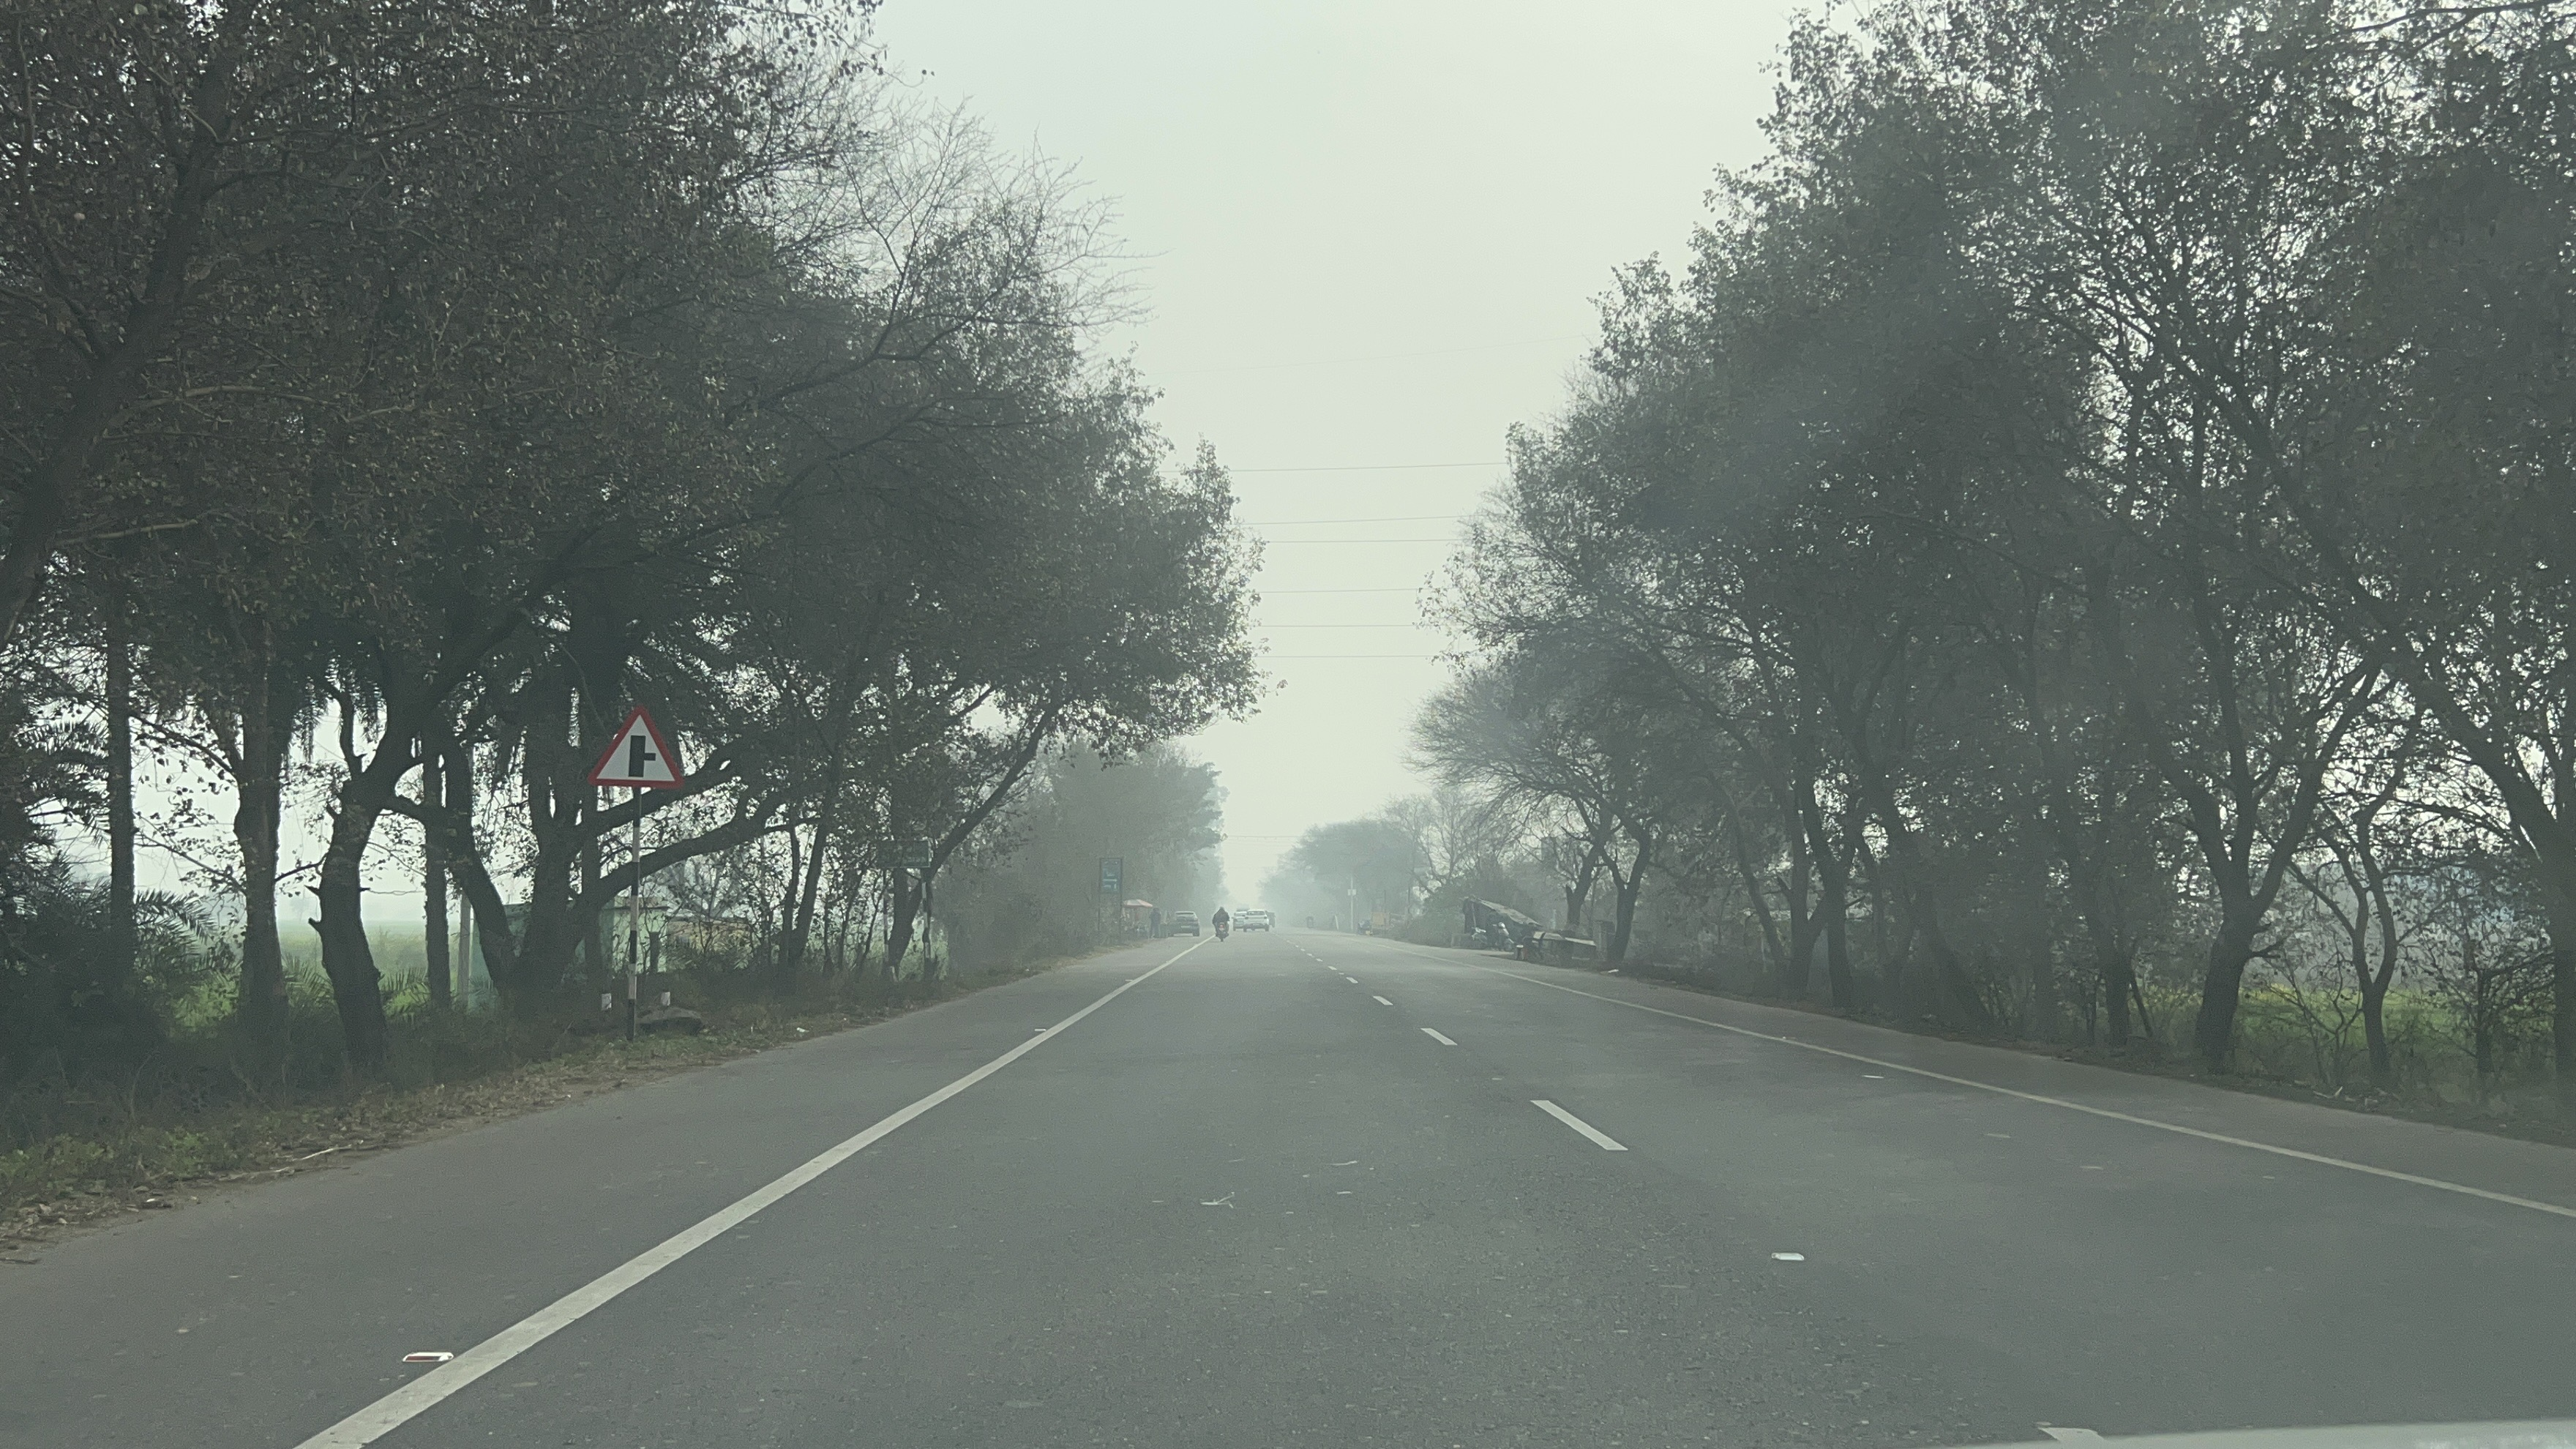Warning: (569, 688, 693, 804)
